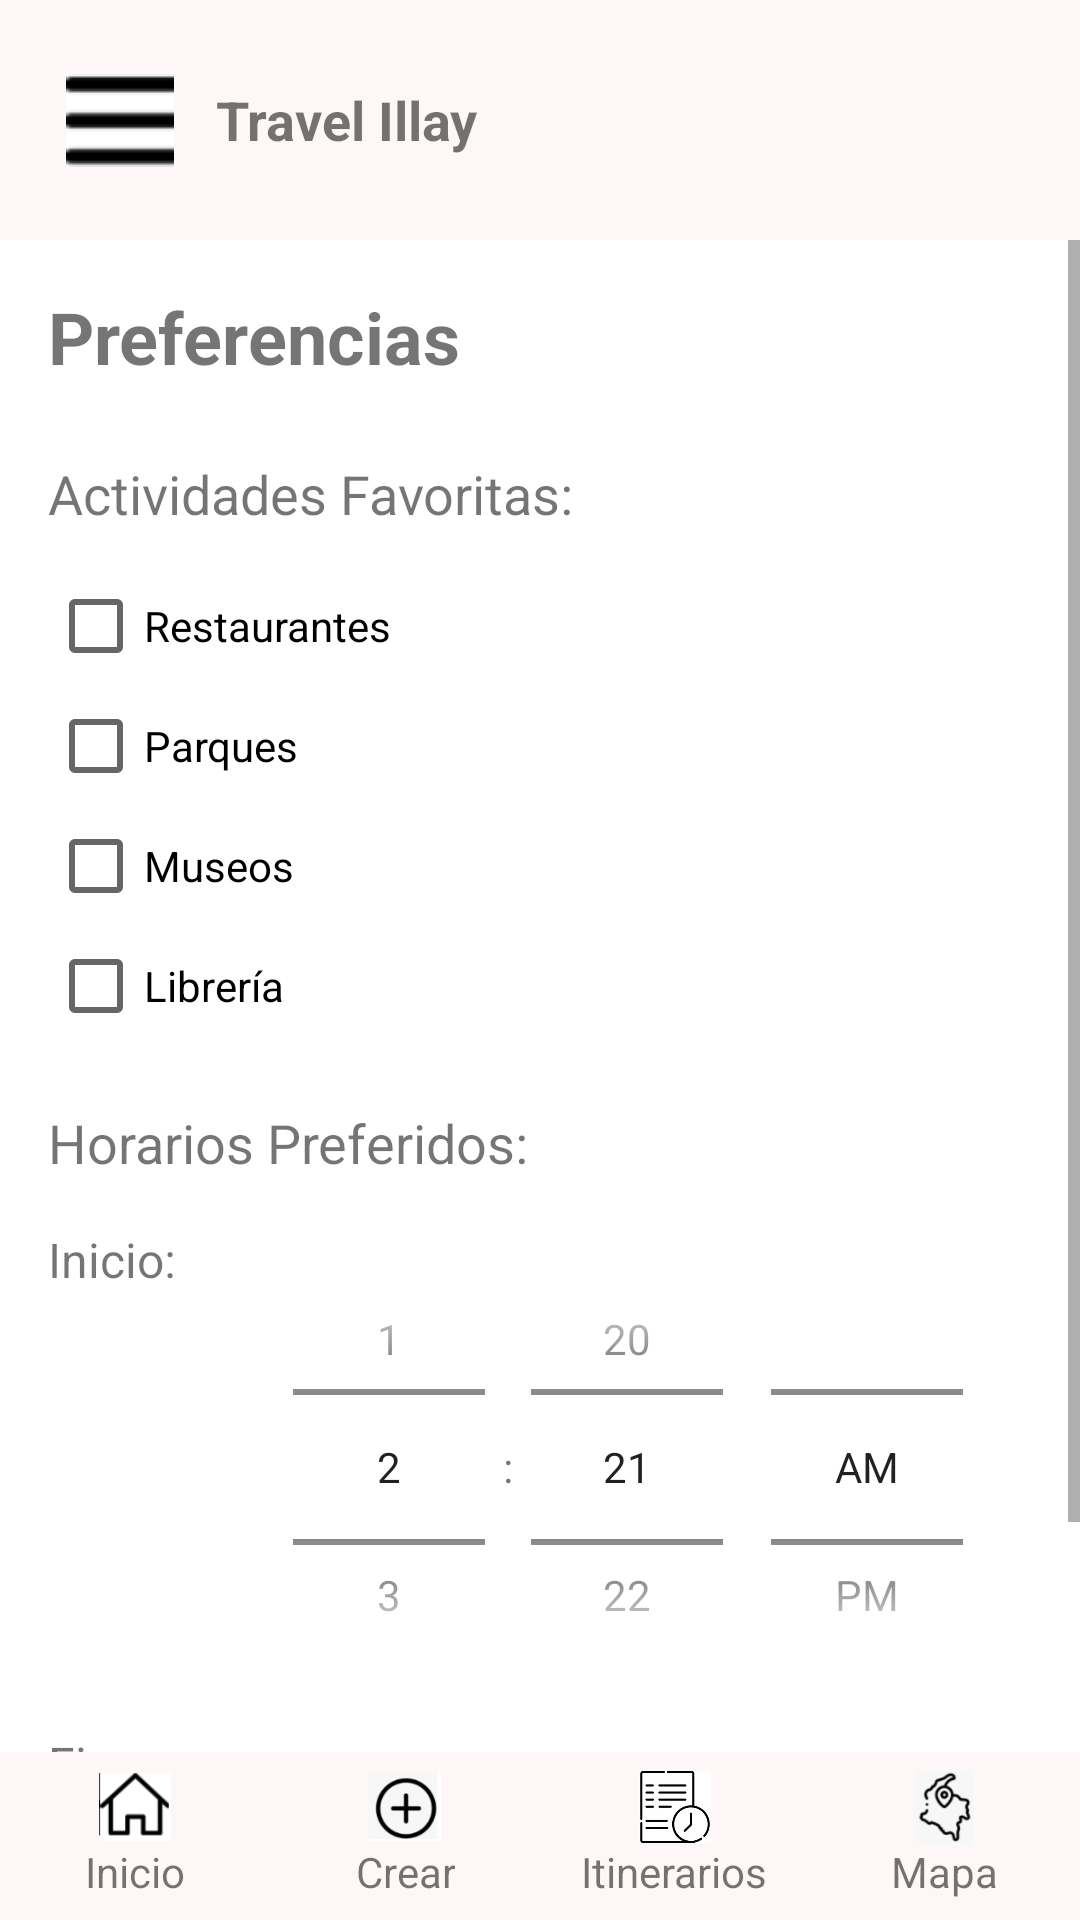

Where icons sit on this 1080px x 1920px app screen, as (x1, y1, x2, y2):
Menú principal: (66, 76, 174, 167)
